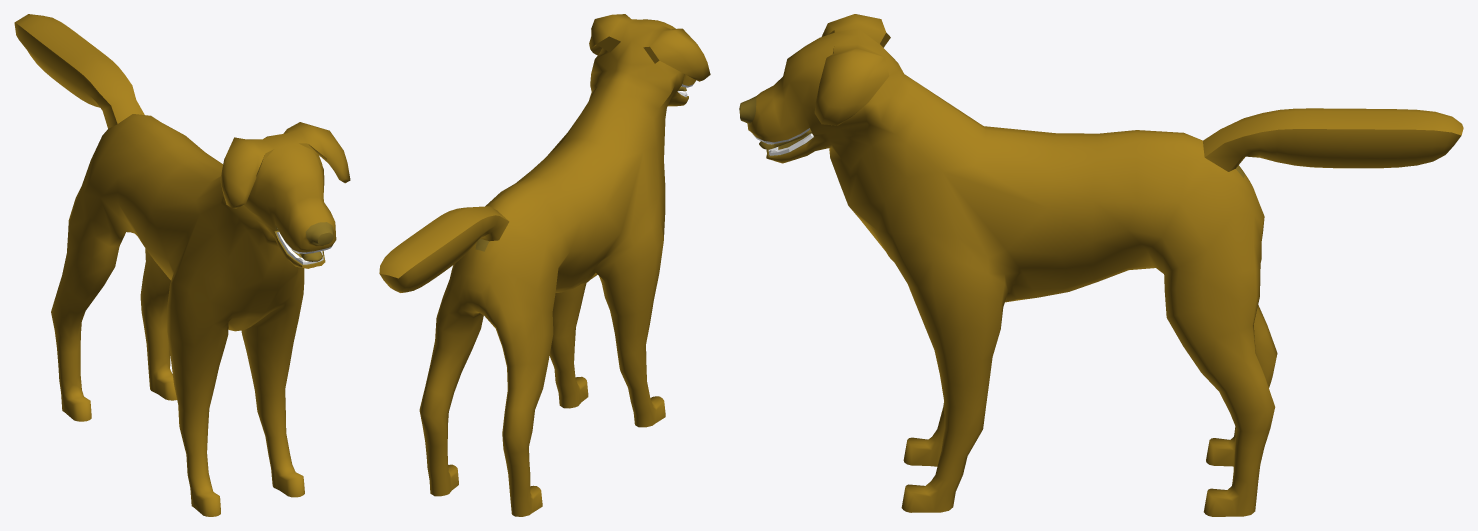
Rendered from DogV2.fbx.
3 views of the same model, side by side, from view 1: azimuth 30°, elevation 25°; view 2: azimuth 150°, elevation 25°; view 3: azimuth 270°, elevation 25° (orthographic). The views are drawn at different scales.
Visible parts, largest first — view 1: Dog_Main; view 2: Dog_Main; view 3: Dog_Main.
Boxes of the visible parts, left/top/right/bottom form: Dog_Main: left=14, top=14, right=350, bottom=516; Dog_Main: left=379, top=14, right=710, bottom=516; Dog_Main: left=739, top=14, right=1463, bottom=516.
Bounding box in the file's own units: 24.35 × 72.08 × 105.
